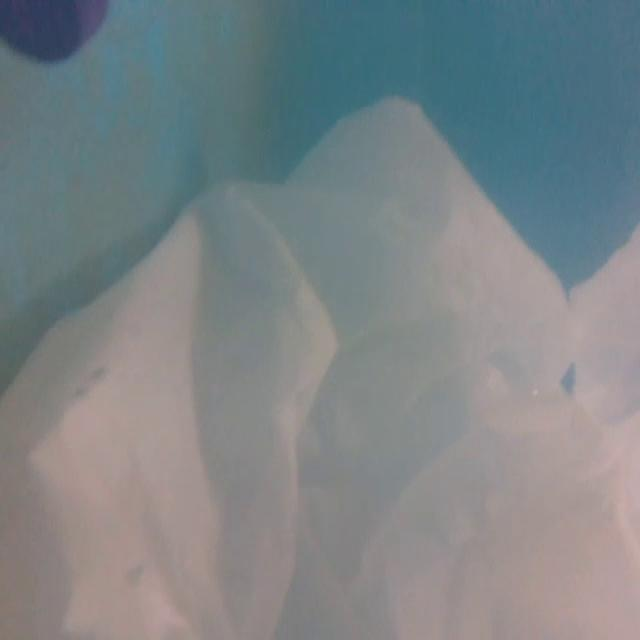plastic bags: (6, 97, 640, 640)
